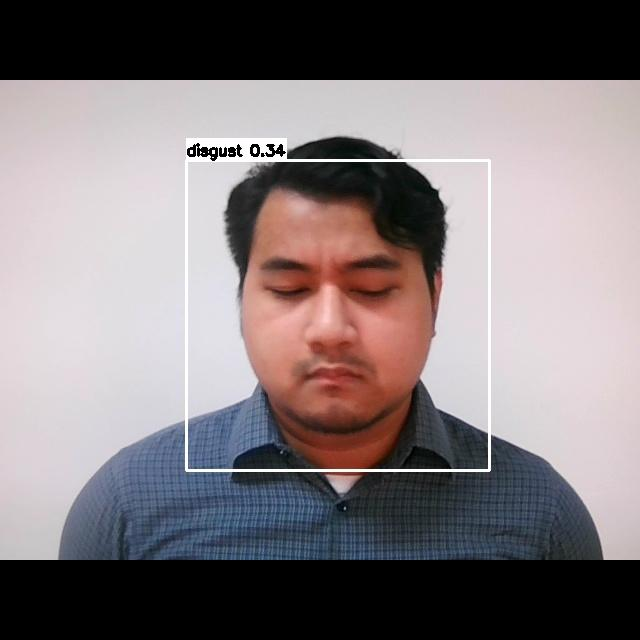Angry: (244, 233, 429, 410)
